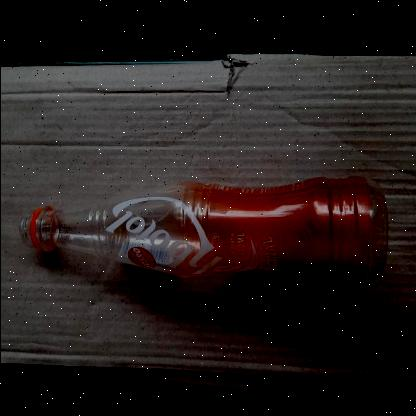Plastic Bottle: (21, 174, 386, 284)
